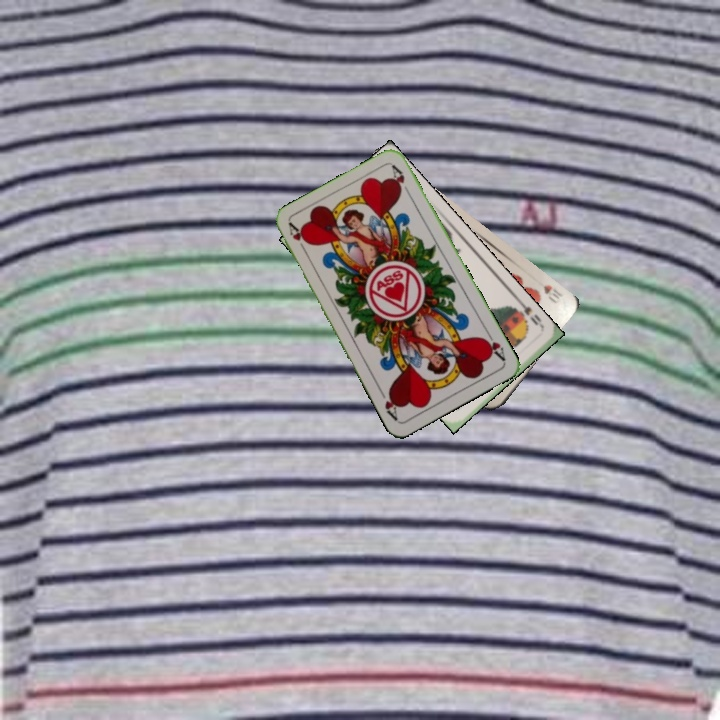H10: (539, 281, 565, 306)
HA: (478, 326, 508, 363), (285, 219, 310, 257)
SO: (509, 297, 547, 333)
